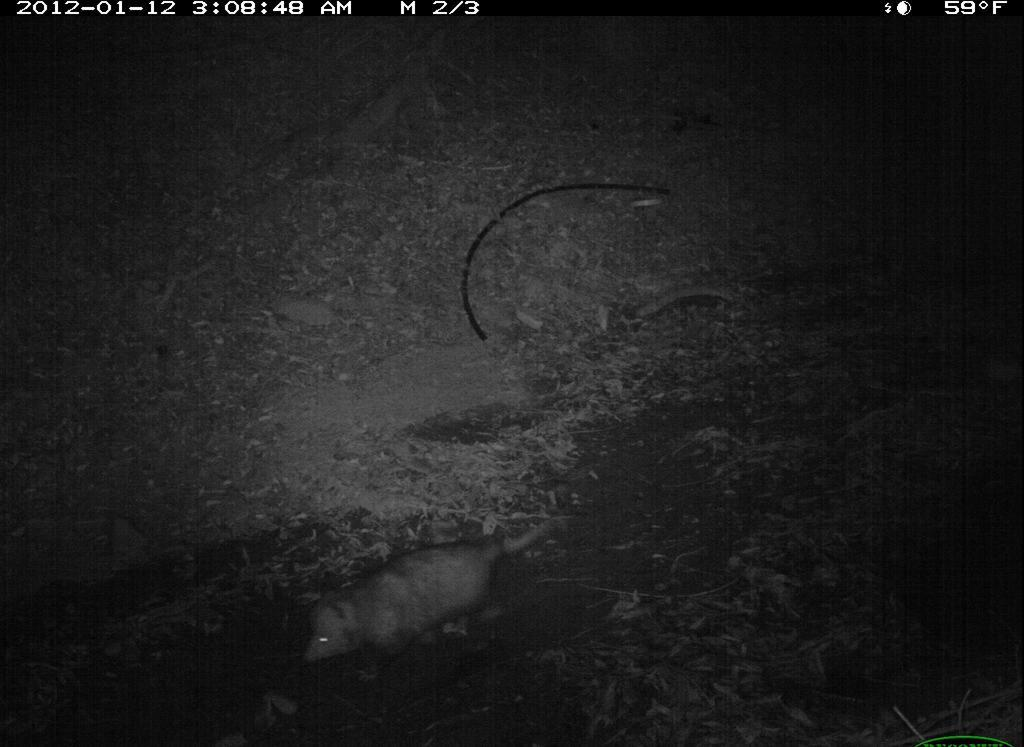opossum: (280, 505, 616, 679)
